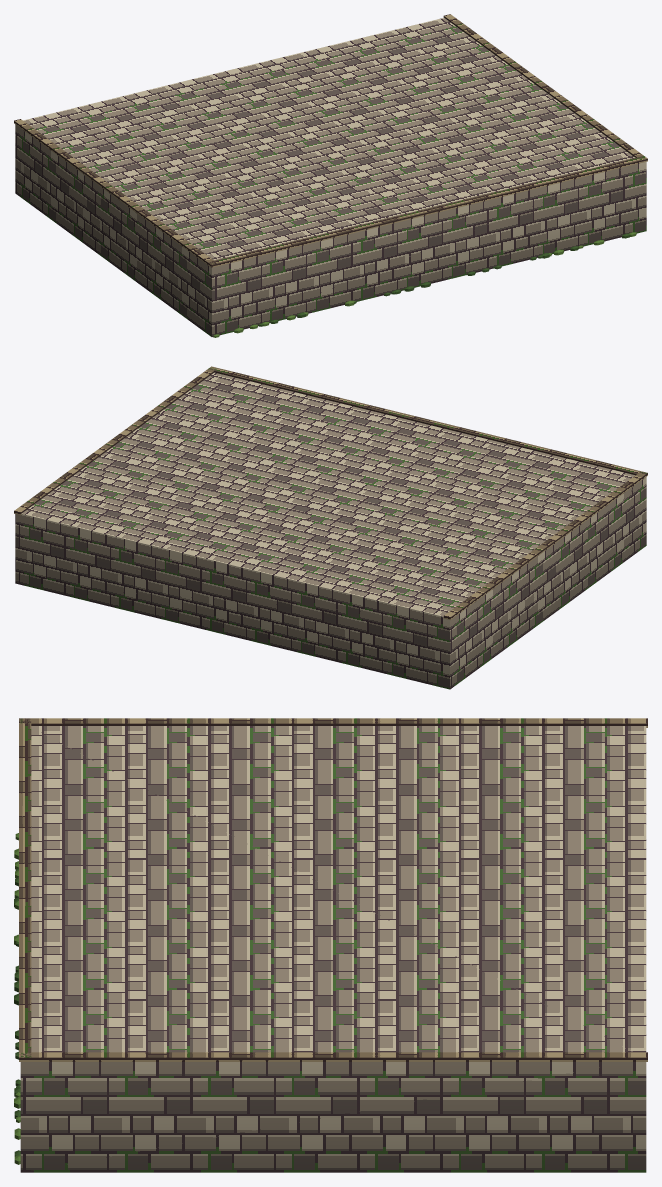
Rendered from scene_wall_w4.glb.
3 renders of one model, top to bottom at view 1: azimuth 30°, elevation 25°; view 2: azimuth 150°, elevation 25°; view 3: azimuth 270°, elevation 25°, orthographic. The views are drawn at different scales.
Parts seen in each view (by area): view 1: scene_wall_w4; view 2: scene_wall_w4; view 3: scene_wall_w4.
Boxes of the visible parts, <box> form: scene_wall_w4: <box>14,14,647,337</box>; scene_wall_w4: <box>14,366,647,689</box>; scene_wall_w4: <box>14,718,647,1172</box>.
Size of the model in its own units: 23.1 by 3.77 by 18.24.
2 materials, 1 textured.
